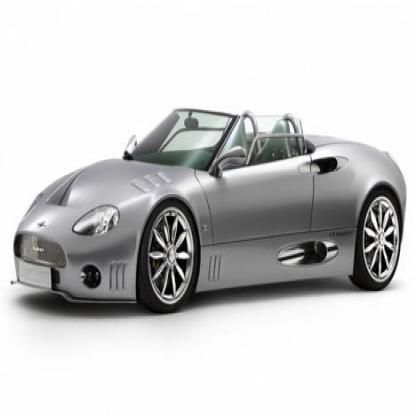Vehicle: (8, 104, 410, 317)
